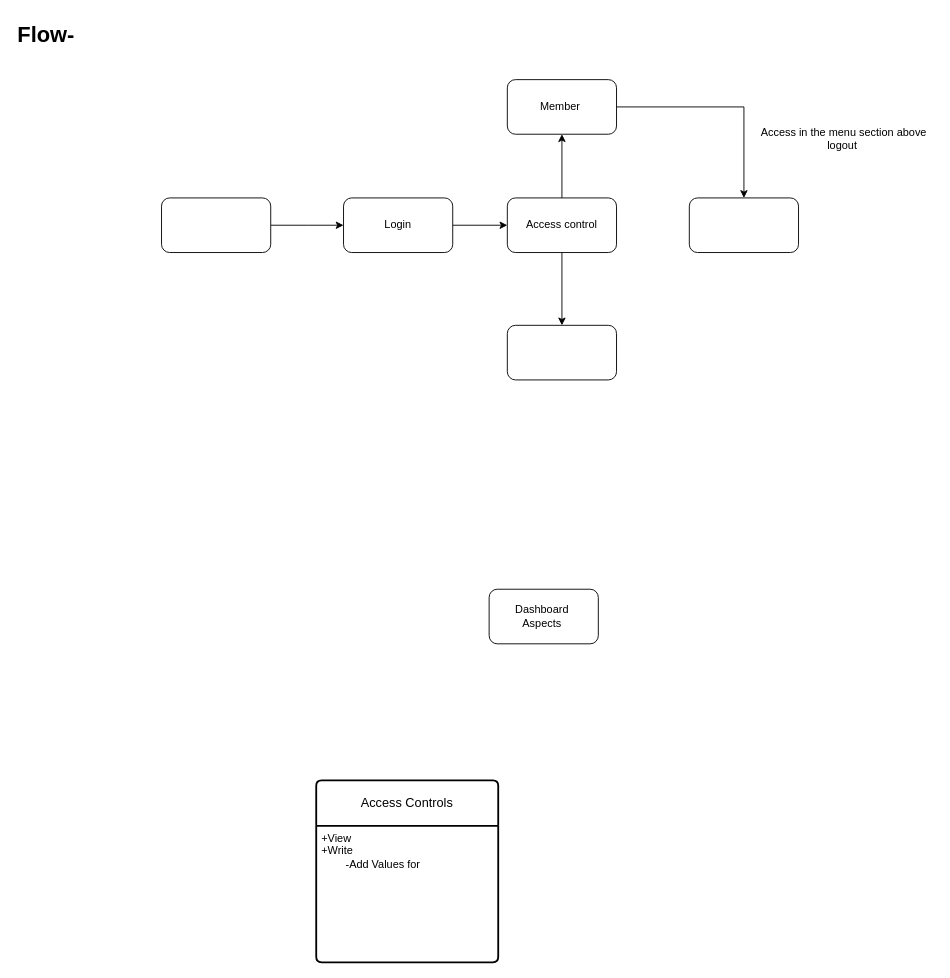
The diagram is 950 pixels wide and 978 high, and some of its shapes have lost their labels. Each missing label, with the centre of its shape:
"Dashboard Route" belongs at point 743,225.
"User" belongs at point 216,225.
"Visitor" belongs at point 561,352.
